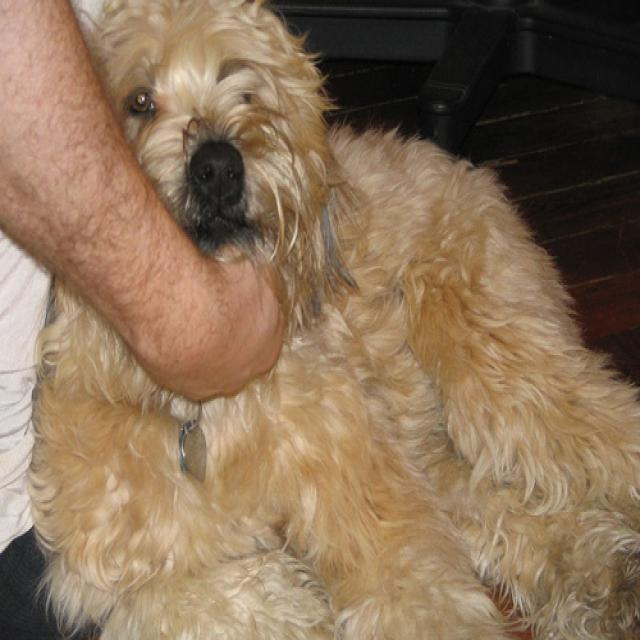dog-wheaten_terrier: (28, 2, 637, 637)
